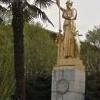Statue: (50, 2, 90, 63)
